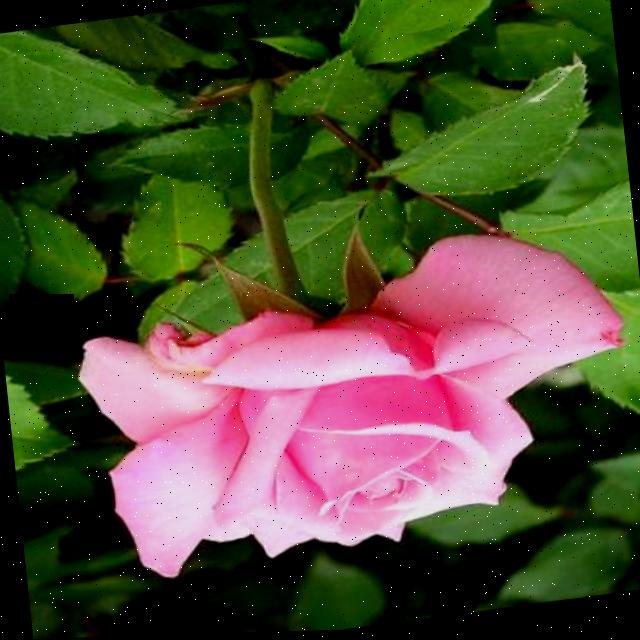rose: (62, 150, 636, 618)
